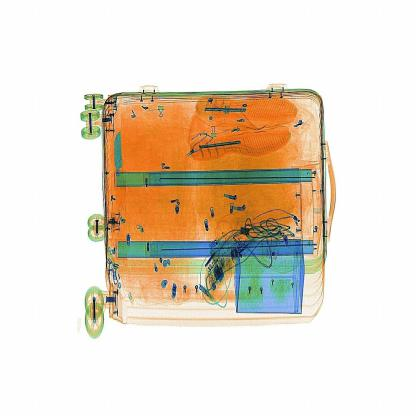wrench: (112, 127, 127, 210)
